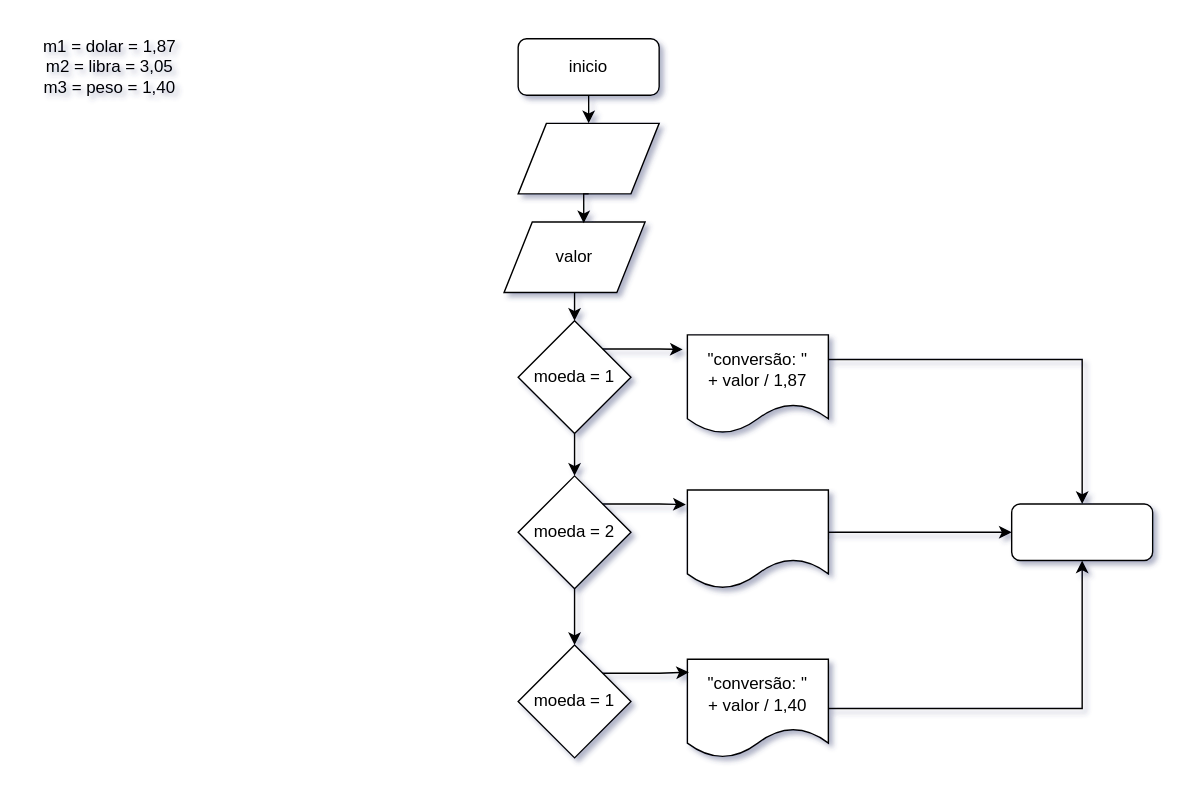
The diagram is 1186 pixels wide and 791 high, and some of its shapes have lost their labels. Each missing label, with the centre of its shape:
"conversão: " + valor / 3,05: (x=757, y=539)
fim: (x=1081, y=531)
moeda: (x=588, y=158)
